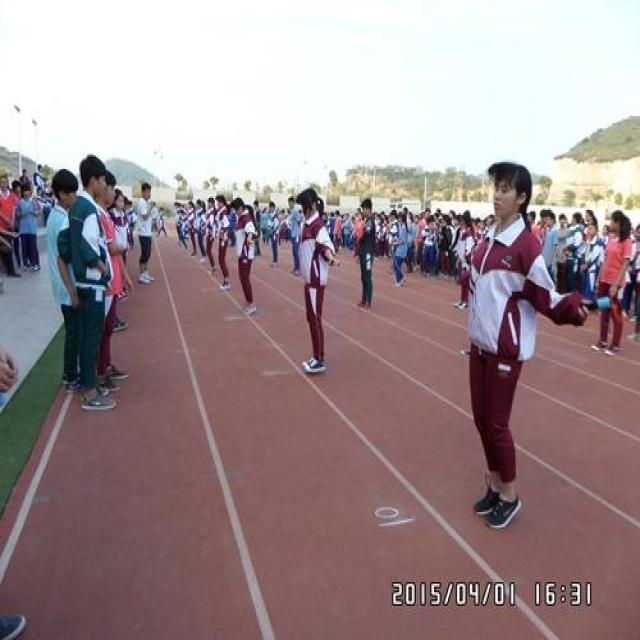non-fight: (447, 152, 584, 532), (55, 152, 122, 409), (287, 184, 343, 372), (584, 208, 636, 353)
